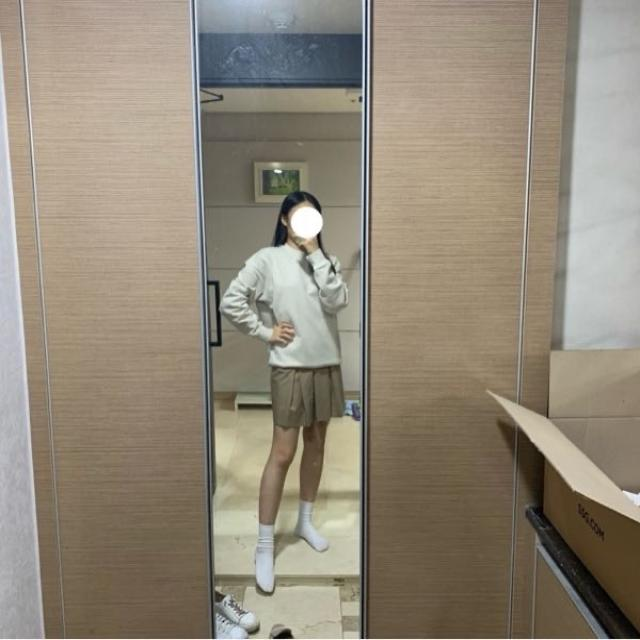longsleeve: (222, 241, 348, 366)
shortpants: (270, 358, 348, 428)
